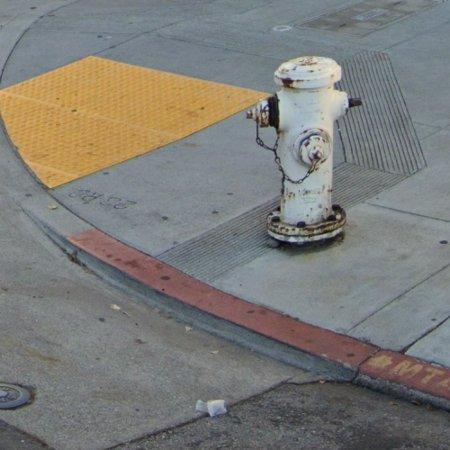a fire hydrant: (248, 56, 360, 244)
